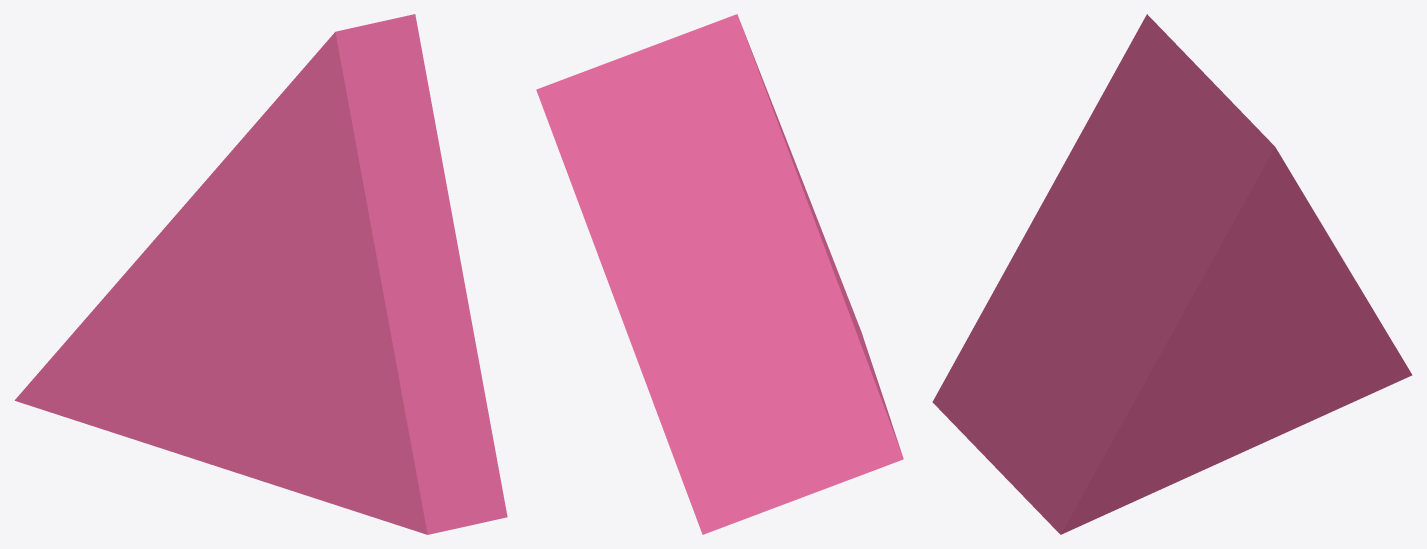
3 views of the same model, side by side, from view 1: azimuth 30°, elevation 25°; view 2: azimuth 150°, elevation 25°; view 3: azimuth 270°, elevation 25° (orthographic). The views are drawn at different scales.
Visible parts, largest first — view 1: Cone_3; view 2: Cone_3; view 3: Cone_3.
Part boxes in pixels (x1,y1,x2,y2): Cone_3: [14, 14, 507, 534]; Cone_3: [536, 14, 903, 534]; Cone_3: [932, 14, 1412, 534].
Bounding box in the file's own units: 1.41 × 1.65 × 1.55.
